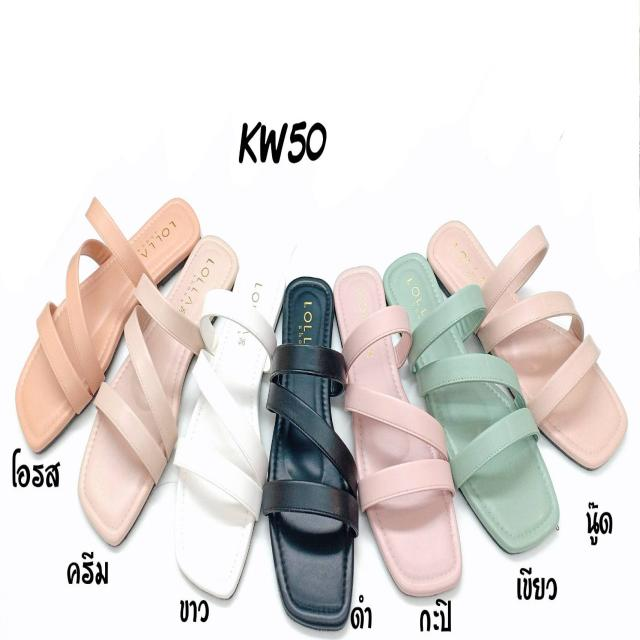black: (270, 274, 354, 625)
cream: (80, 236, 232, 532)
green: (384, 250, 559, 551)
kapi: (328, 263, 461, 597)
nood: (430, 221, 635, 464)
orot: (15, 198, 196, 438)
white: (174, 261, 282, 585)
